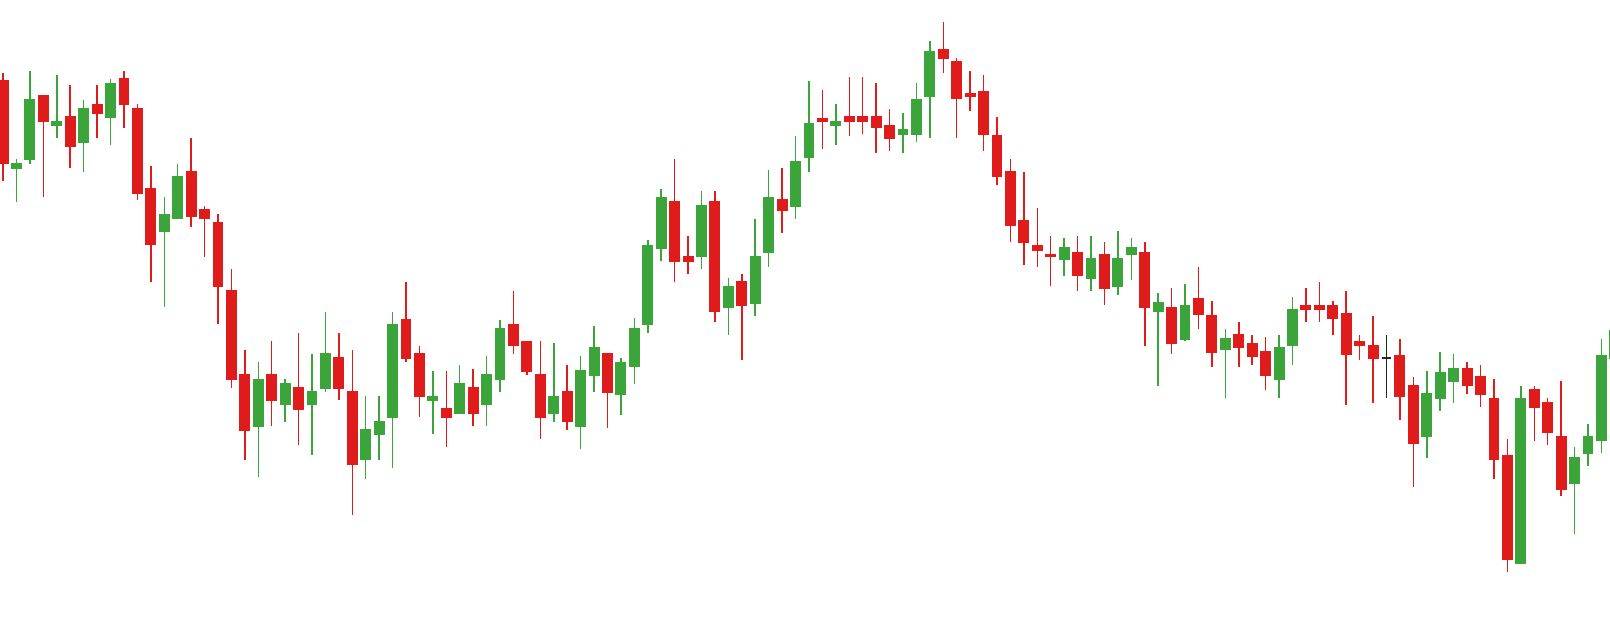buy: (1405, 374, 1530, 578), (250, 362, 374, 523)
sell: (844, 16, 965, 133)
